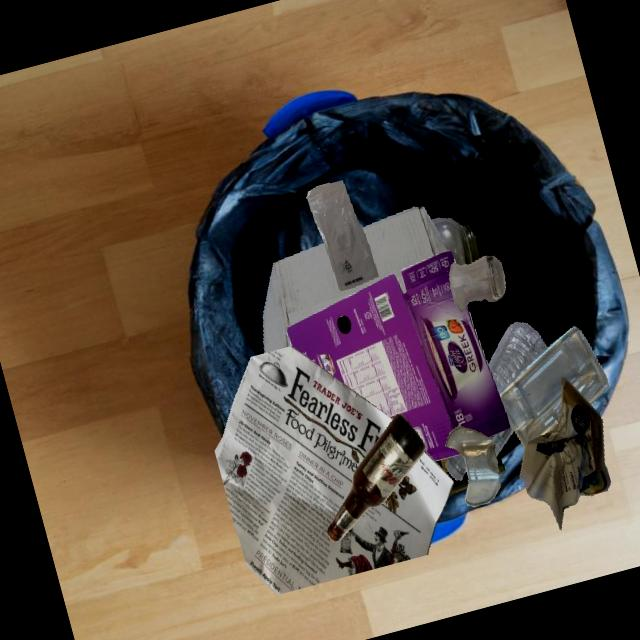cardboard: (286, 250, 511, 461), (263, 206, 449, 353)
glass: (326, 414, 425, 540), (444, 425, 500, 506), (449, 255, 505, 312), (431, 217, 480, 265), (435, 457, 468, 496), (496, 452, 505, 474)
paper: (214, 345, 453, 594), (519, 377, 610, 530)
plastic: (497, 325, 608, 448), (306, 179, 378, 291), (498, 321, 547, 390)
